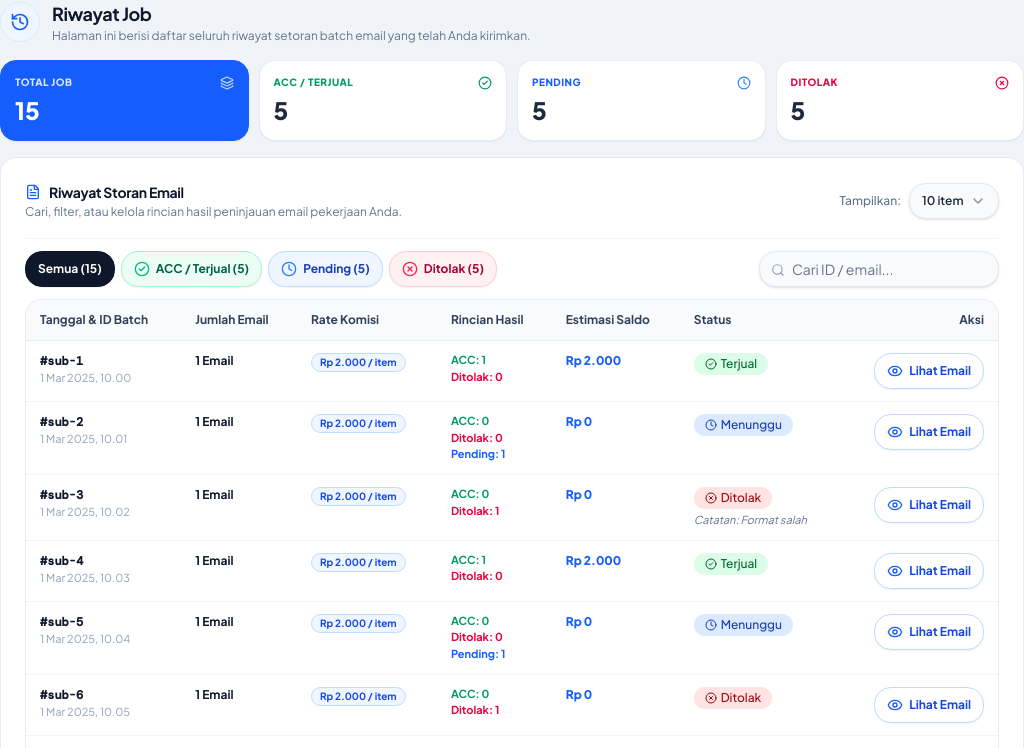
Test: SubmissionHistory Component › filters submissions when quick filter pill is clicked
Click the button "ACC / Terjual (5)".
click(192, 269)  # box [121,251,262,287]
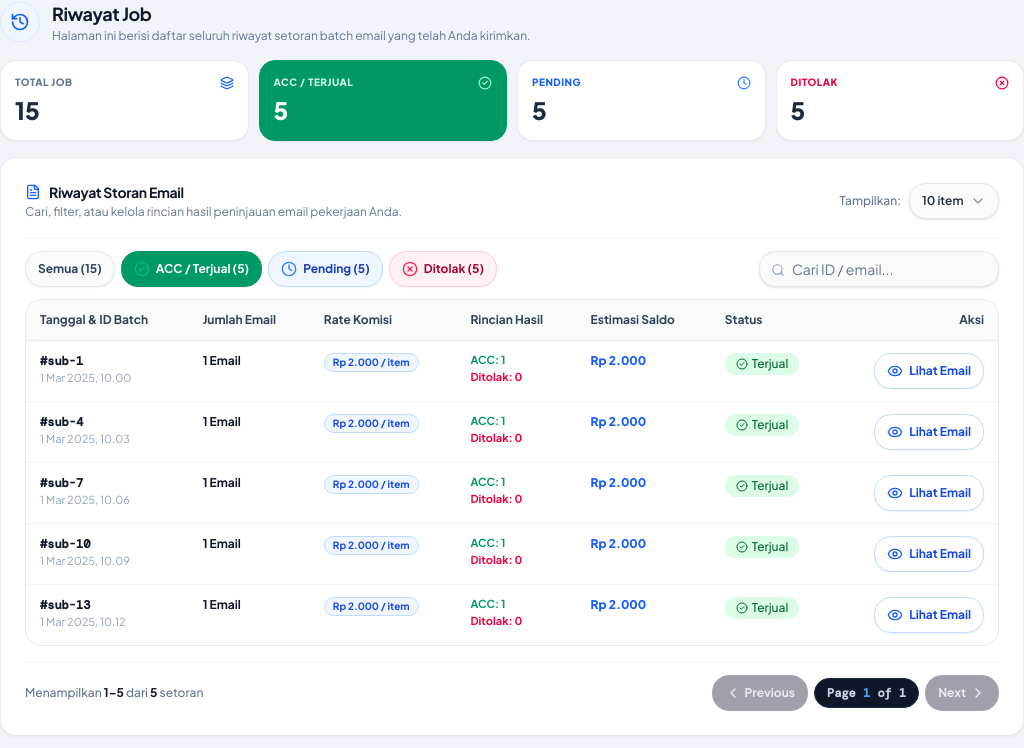
Expected: the text "Menampilkan 1–5 dari 5 setoran" is shown, [25,685,204,701]
Expected: the element with test id "pagination-page-indicator" reads "Page 1 of 1", [814,678,919,708]
